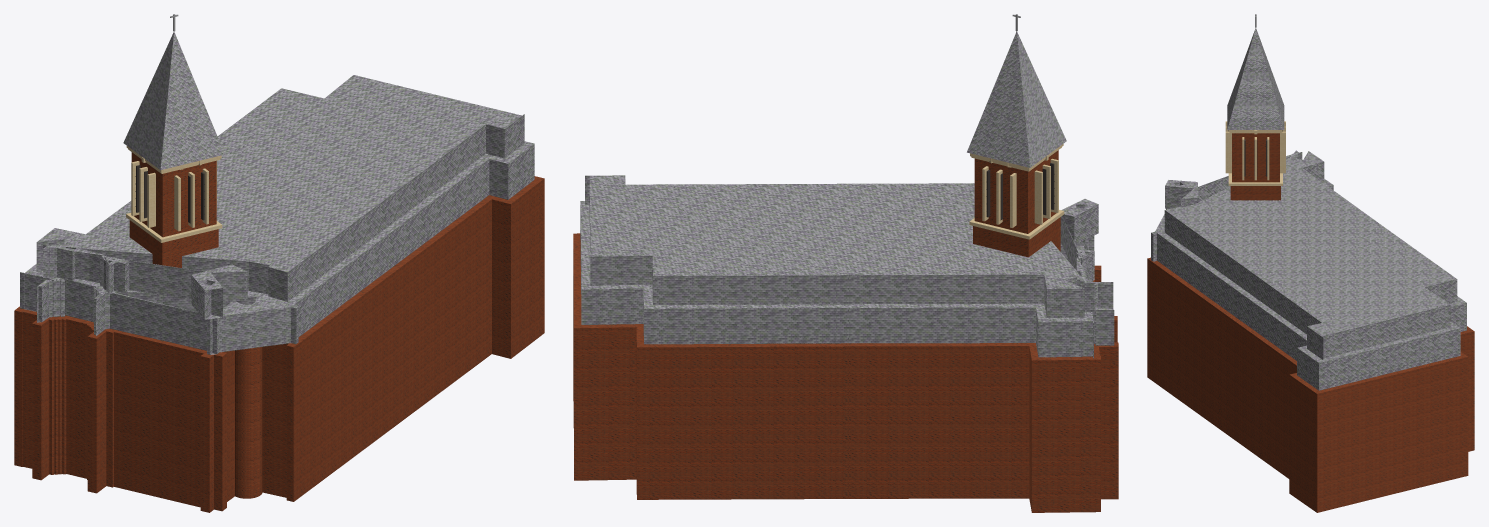
The picture shows the model from 3 angles, left to right: view 1: azimuth 30°, elevation 25°; view 2: azimuth 150°, elevation 25°; view 3: azimuth 270°, elevation 25°; orthographic projection. The views are drawn at different scales.
Parts seen in each view (by area): view 1: lmbase_453577567, lmbase_453577567_roof_b, lmbase_453577567_roof_a, lmbase_453577567_tower; view 2: lmbase_453577567, lmbase_453577567_roof_b, lmbase_453577567_roof_a, lmbase_453577567_tower; view 3: lmbase_453577567, lmbase_453577567_roof_b, lmbase_453577567_roof_a, lmbase_453577567_tower.
Boxes of the visible parts, x1,y1,x2,y2 form: lmbase_453577567: (14,176,544,512); lmbase_453577567_roof_b: (36,75,524,319); lmbase_453577567_roof_a: (20,141,534,354); lmbase_453577567_tower: (123,14,224,267); lmbase_453577567: (573,233,1118,512); lmbase_453577567_roof_b: (585,175,1098,317); lmbase_453577567_roof_a: (580,201,1114,358); lmbase_453577567_tower: (967,14,1066,257); lmbase_453577567: (1147,257,1474,512); lmbase_453577567_roof_b: (1164,150,1457,359); lmbase_453577567_roof_a: (1151,179,1466,390); lmbase_453577567_tower: (1225,14,1285,200).
Bounding box in the file's own units: 46.85 × 37.63 × 32.38.
6 materials, 3 textured.
